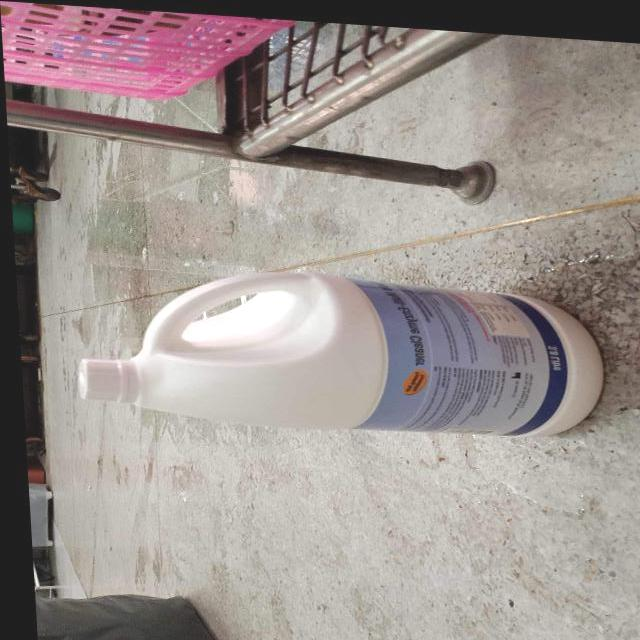General: (1, 1, 506, 206)
Infectious: (76, 268, 604, 437)
Sharps: (36, 190, 638, 320)
